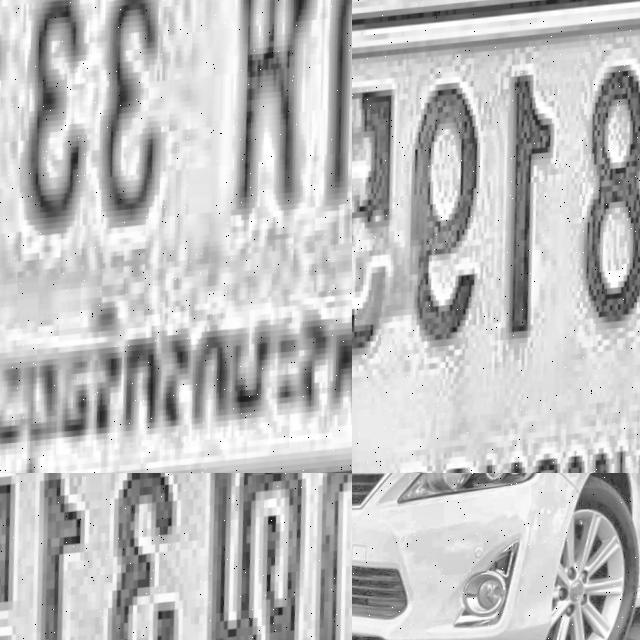license-plate: (0, 0, 352, 473), (352, 0, 640, 473), (0, 473, 352, 640)
